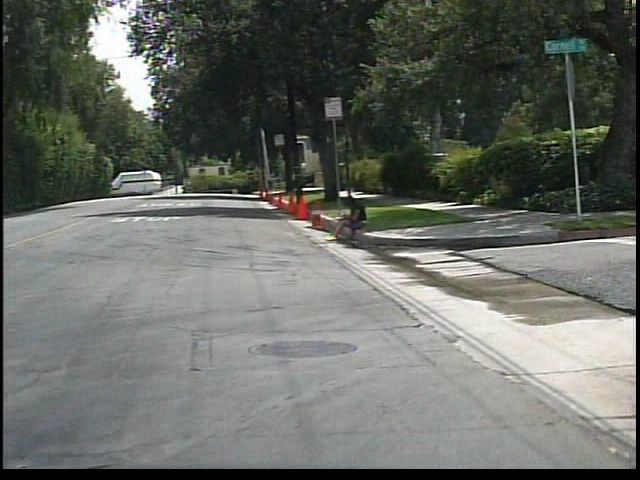person: (325, 193, 378, 246)
